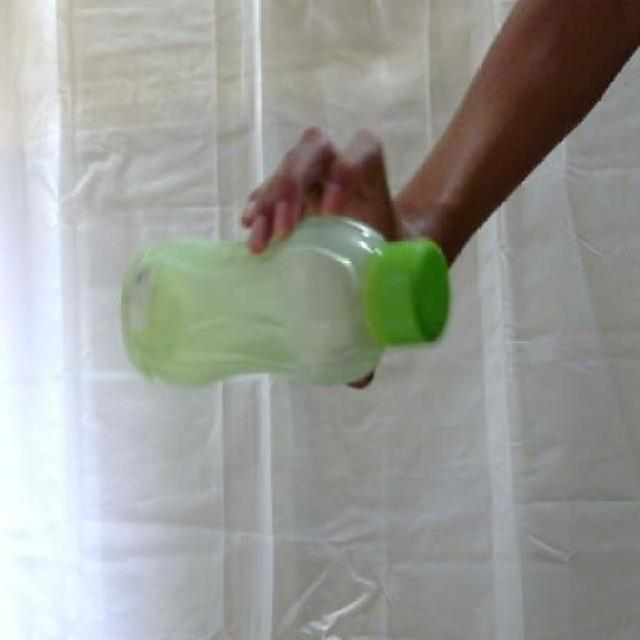Plastic: (119, 215, 451, 392)
